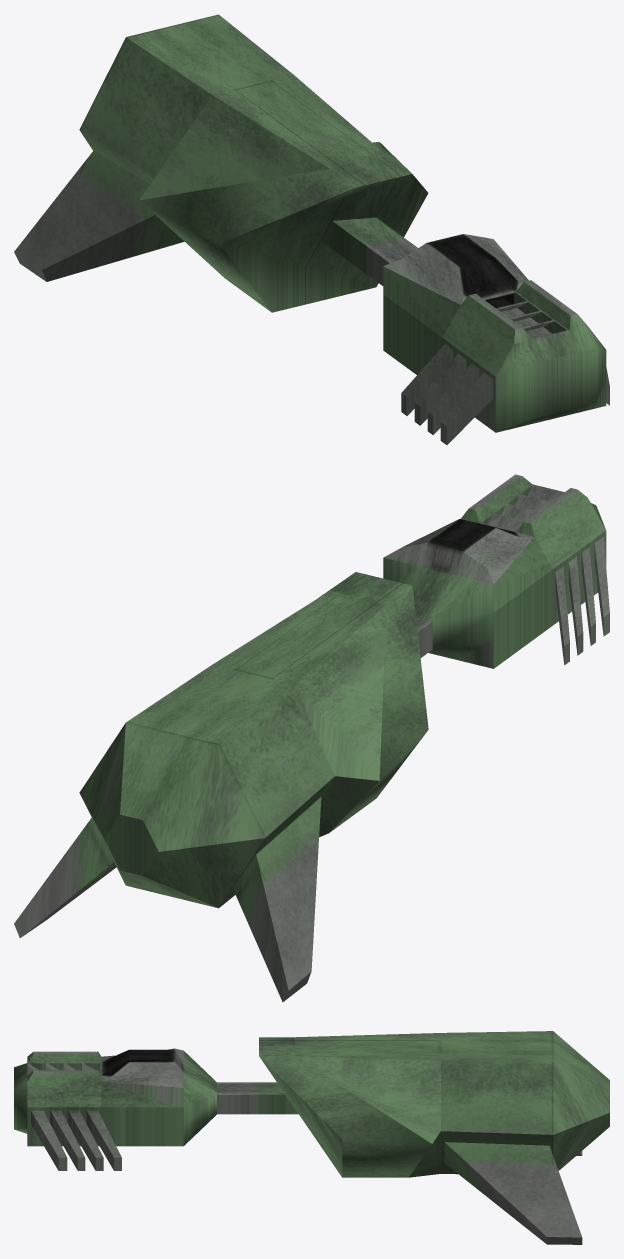
The model's file is shiperino team 1.FBX.
3 renders of one model, top to bottom at view 1: azimuth 30°, elevation 25°; view 2: azimuth 150°, elevation 25°; view 3: azimuth 270°, elevation 25°, orthographic. The views are drawn at different scales.
Parts seen in each view (by area): view 1: pls_no_shiperino:Box001; view 2: pls_no_shiperino:Box001; view 3: pls_no_shiperino:Box001.
Boxes of the visible parts, bbox=[...] form: pls_no_shiperino:Box001: bbox=[14, 14, 609, 444]; pls_no_shiperino:Box001: bbox=[14, 474, 609, 1002]; pls_no_shiperino:Box001: bbox=[14, 1031, 609, 1244].
Bounding box in the file's own units: 55 × 42.34 × 149.
Materials: 1 (1 with a texture image).
